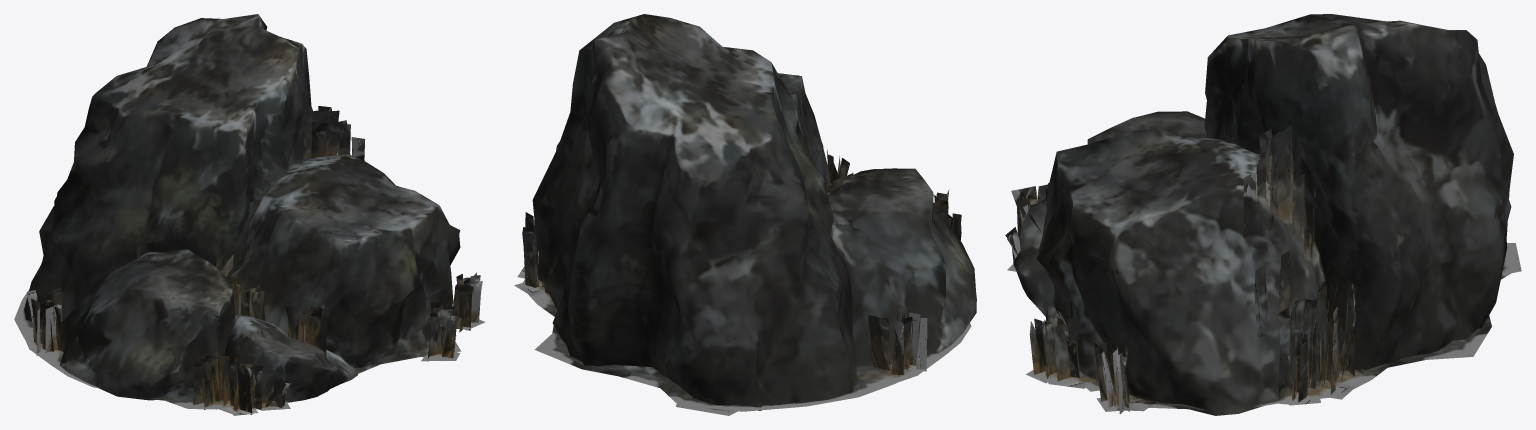
File: boulder_meshy.glb
3 renders of one model, left to right at view 1: azimuth 30°, elevation 25°; view 2: azimuth 150°, elevation 25°; view 3: azimuth 270°, elevation 25°, orthographic. The views are drawn at different scales.
Parts seen in each view (by area): view 1: geometry_0; view 2: geometry_0; view 3: geometry_0.
Boxes of the visible parts, left/top/right/bottom form: geometry_0: left=14, top=14, right=485, bottom=415; geometry_0: left=514, top=14, right=976, bottom=415; geometry_0: left=1005, top=14, right=1521, bottom=415.
Size of the model in its own units: 1 by 0.6826 by 0.9797.
Materials: 1 (1 with a texture image).
